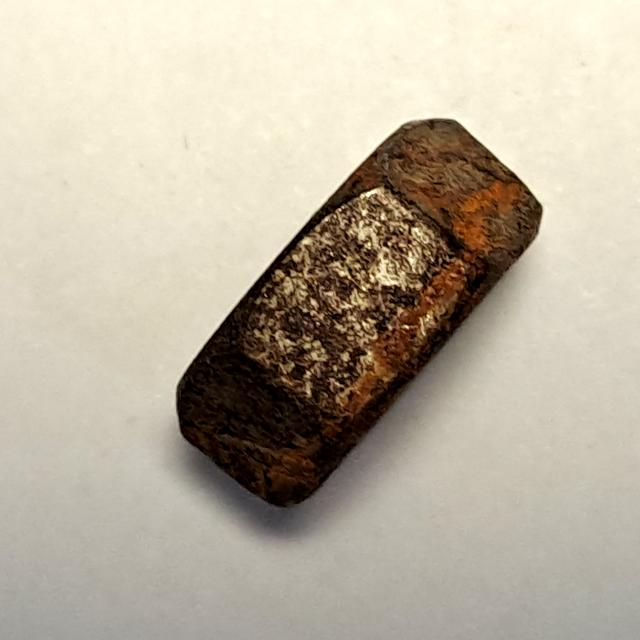Side_Rust: (162, 106, 559, 531)
